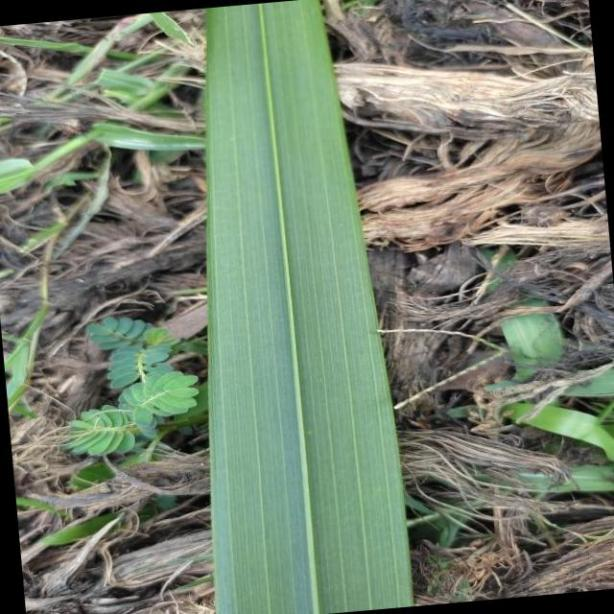Healthy: (206, 0, 414, 614)
